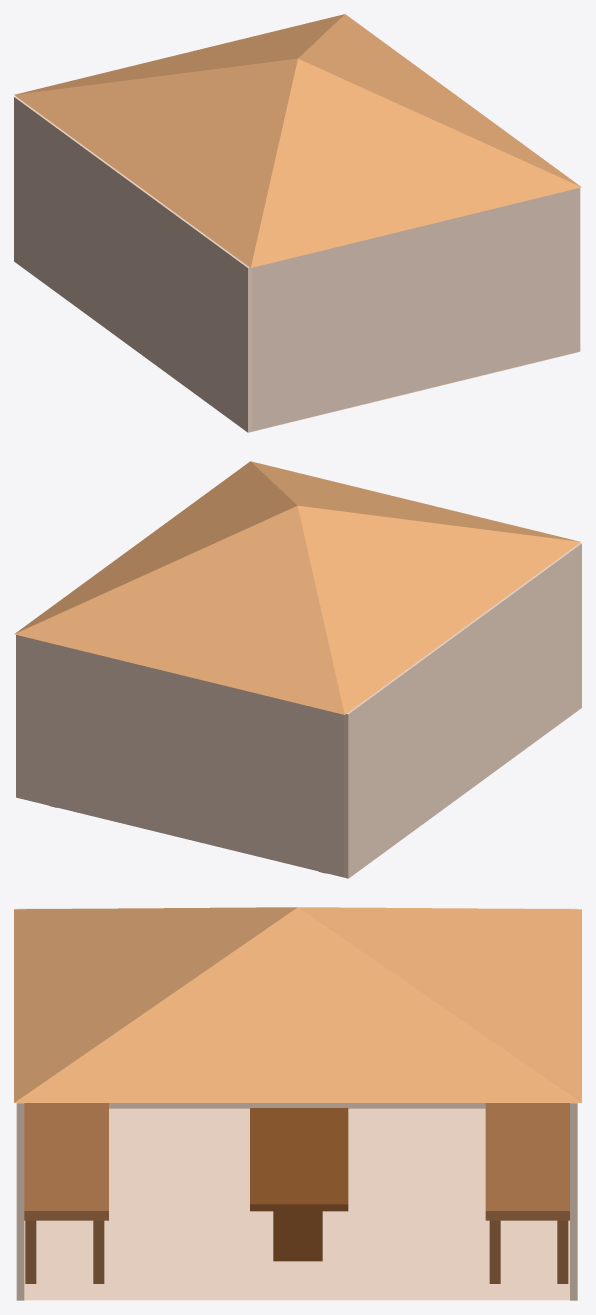
The model's file is paredes2.glb.
3 renders of one model, top to bottom at view 1: azimuth 30°, elevation 25°; view 2: azimuth 150°, elevation 25°; view 3: azimuth 270°, elevation 25°, orthographic. The views are drawn at different scales.
Visible parts, largest first — view 1: Cube.001, Cubo.001; view 2: Cube.001, Cubo.001; view 3: Cubo.001, Cube.001, Cubo.002, Cubo, Cubo.011, Cubo.003, Cubo.004, Cubo.010, Cubo.009.
Part boxes in pixels (left/top/right/bottom): Cube.001: left=14, top=96, right=580, bottom=432; Cubo.001: left=14, top=14, right=581, bottom=267; Cube.001: left=16, top=543, right=581, bottom=878; Cubo.001: left=14, top=461, right=580, bottom=714; Cubo.001: left=14, top=907, right=581, bottom=1102; Cube.001: left=16, top=908, right=577, bottom=1300; Cubo.002: left=250, top=1108, right=348, bottom=1261; Cubo: left=24, top=1103, right=108, bottom=1220; Cubo.011: left=485, top=1103, right=569, bottom=1220; Cubo.003: left=25, top=1220, right=36, bottom=1283; Cubo.004: left=93, top=1220, right=104, bottom=1283; Cubo.010: left=489, top=1220, right=500, bottom=1283; Cubo.009: left=557, top=1220, right=568, bottom=1283.
Bounding box in the file's own units: 21.11 × 15.22 × 26.
